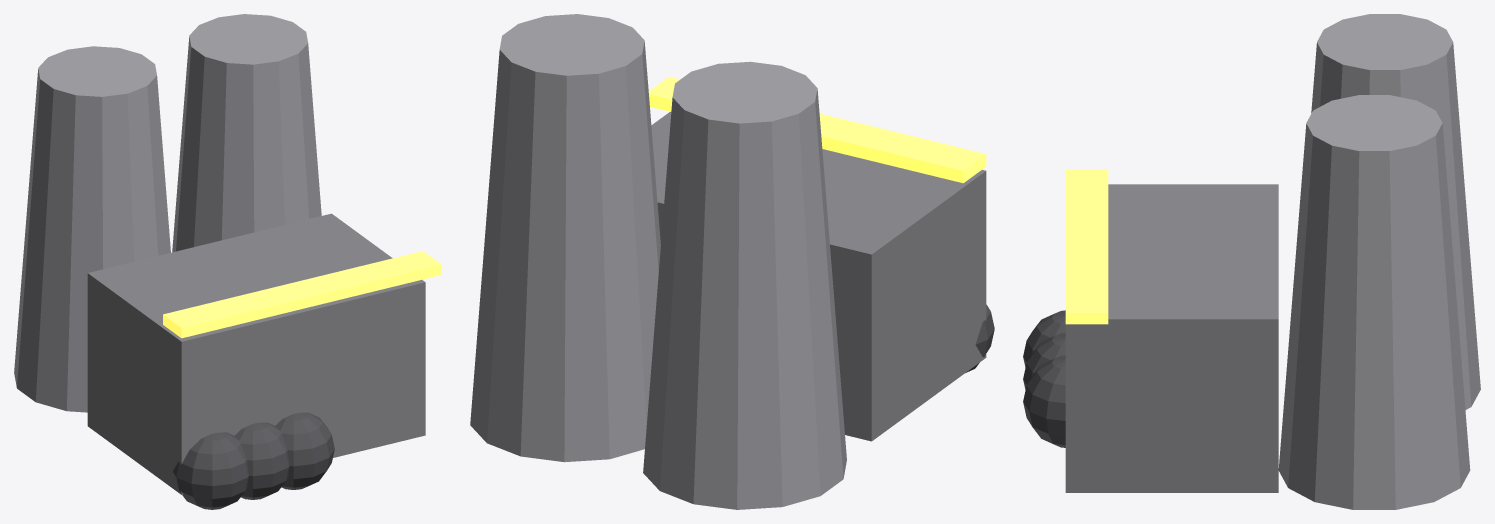
Rendered from coal.glb.
3 views of the same model, side by side, from view 1: azimuth 30°, elevation 25°; view 2: azimuth 150°, elevation 25°; view 3: azimuth 270°, elevation 25° (orthographic). The views are drawn at different scales.
Visible parts, largest first — view 1: box.001, cyl.001, cyl, box, sphere.001, sphere, sphere.002; view 2: cyl.001, cyl, box.001, box, sphere.001; view 3: cyl, box.001, cyl.001, box, sphere, sphere.001, sphere.002.
Part boxes in pixels (x1,y1,x2,y2): box.001: (87,213,425,494); cyl.001: (14,46,170,412); cyl: (172,14,321,252); box: (163,251,441,338); sphere.001: (173,432,248,509); sphere: (275,412,334,489); sphere.002: (234,422,289,499); cyl.001: (643,61,846,509); cyl: (470,14,660,462); box.001: (651,112,986,441); box: (648,76,986,183); sphere.001: (966,304,994,372); cyl: (1278,95,1470,509); box.001: (1065,184,1278,492); cyl.001: (1311,14,1480,409); box: (1065,169,1108,324); sphere: (1023,355,1065,447); sphere.001: (1023,310,1065,367); sphere.002: (1023,333,1065,389).
Bounding box in the file's own units: 1.78 × 1.92 × 2.15.
